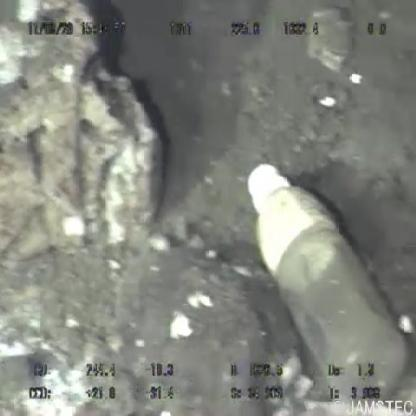Rác: (244, 160, 414, 402)
